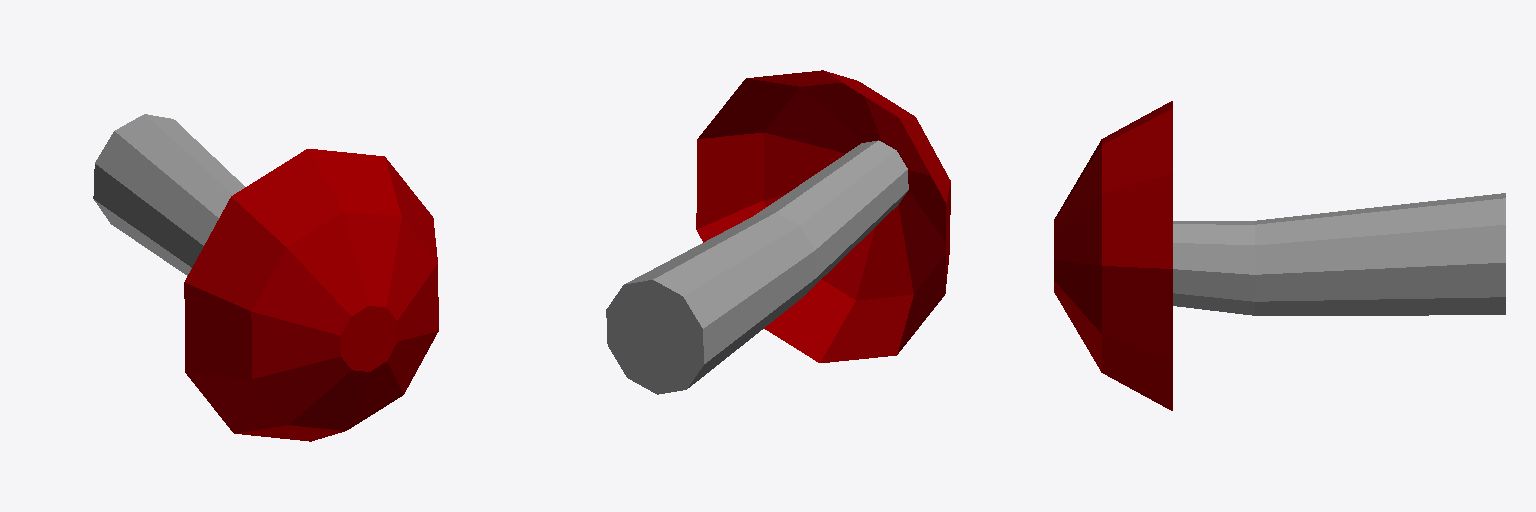
File: mushroom2.obj
3 views of the same model, side by side, from view 1: azimuth 30°, elevation 25°; view 2: azimuth 150°, elevation 25°; view 3: azimuth 270°, elevation 25° (orthographic).
Visible parts, largest first — view 1: Cylinder.006; view 2: Cylinder.006; view 3: Cylinder.006.
Part boxes in pixels (x1,y1,x2,y2): Cylinder.006: (93,114,438,441); Cylinder.006: (606,70,950,394); Cylinder.006: (1054,101,1505,410).
Size of the model in its own units: 15.07 by 16.93 by 23.64.